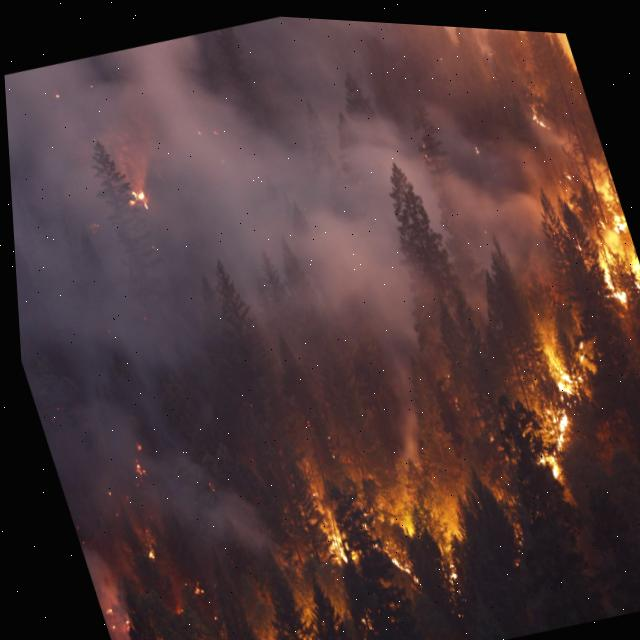fire: (573, 151, 640, 301), (524, 322, 585, 409)
smoke: (3, 13, 485, 400), (29, 370, 228, 596), (438, 107, 558, 280), (404, 19, 555, 57)
